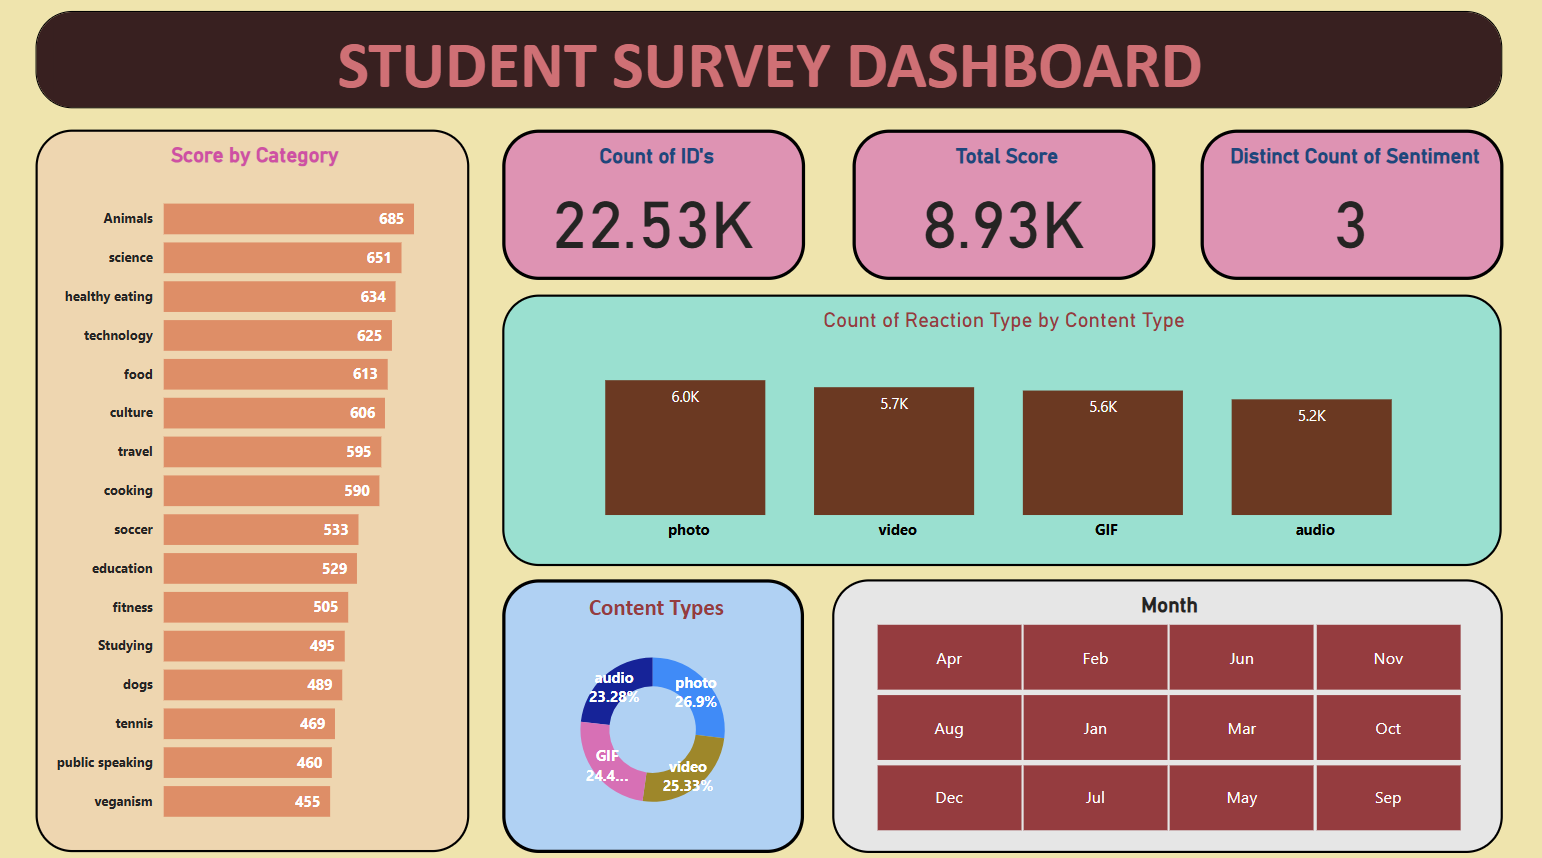

Layout of this report page (visuals, bound fields, positions):
{"tool":"powerbi","page":{"name":"Page 1","canvas":[1280,720],"ordinal":0},"visuals":[{"type":"barChart","title":"Score by Category","fields":{"Category":["Table2 (2).Category"],"Y":["Sum(Table2 (2).Score)"]},"box":[32.4,111.3,355.3,591.2],"z":0},{"type":"textbox","title":"STUDENT SURVEY DASHBOARD","box":[32.7,14,1200.1,79.4],"z":1000},{"type":"card","title":"Count of ID''s","fields":{"Values":["CountNonNull(Table2 (2).Content ID)"]},"box":[414.4,110.9,247.5,122.6],"z":2000},{"type":"card","title":"Distinct Count of Sentiment","fields":{"Values":["Count(Table2 (2).Sentiment)"]},"box":[985.3,110.9,247.5,122.6],"z":3000},{"type":"card","title":"Total Score","fields":{"Values":["Sum(Table2 (2).Score)"]},"box":[700.4,110.9,247.5,122.6],"z":4000},{"type":"donutChart","title":"Content Types","fields":{"Category":["Table2 (2).Content Type"],"Y":["Sum(Table2 (2).Score)"]},"box":[414,478.8,247,223.7],"z":5000},{"type":"columnChart","fields":{"Y":["CountNonNull(Table2 (2).Reaction Type)"],"Category":["Table2 (2).Content Type"]},"box":[414,246,817.9,221.7],"z":6000},{"type":"slicer","title":"Month","fields":{"Values":["Table2 (2).Month"]},"box":[683.9,478.9,548.6,223.8],"z":7000}]}

Visuals, with their boxes in screenshot pixels (x1, y1, x2, y2), scaled from the page's 1280x720 canvas onto the 1542x858 screenshot:
"Score by Category" barChart: 39,133,467,837
"STUDENT SURVEY DASHBOARD" textbox: 39,17,1485,111
"Count of ID''s" card: 499,132,797,278
"Distinct Count of Sentiment" card: 1187,132,1485,278
"Total Score" card: 844,132,1142,278
"Content Types" donutChart: 499,571,796,837
columnChart - CountNonNull(Table2 (2).Reaction Type) x Table2 (2).Content Type: 499,293,1484,557
"Month" slicer: 824,571,1485,837
